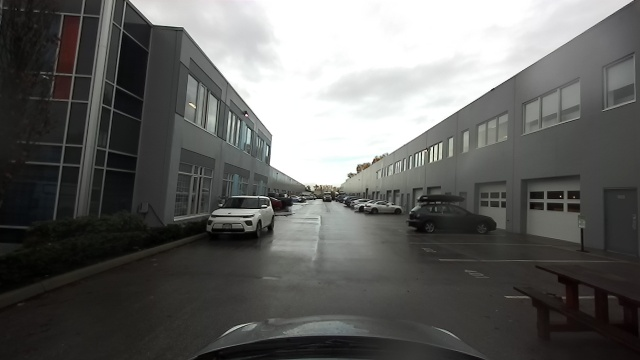car: (407, 190, 498, 236), (204, 192, 274, 241), (362, 199, 403, 214), (317, 192, 334, 203)
